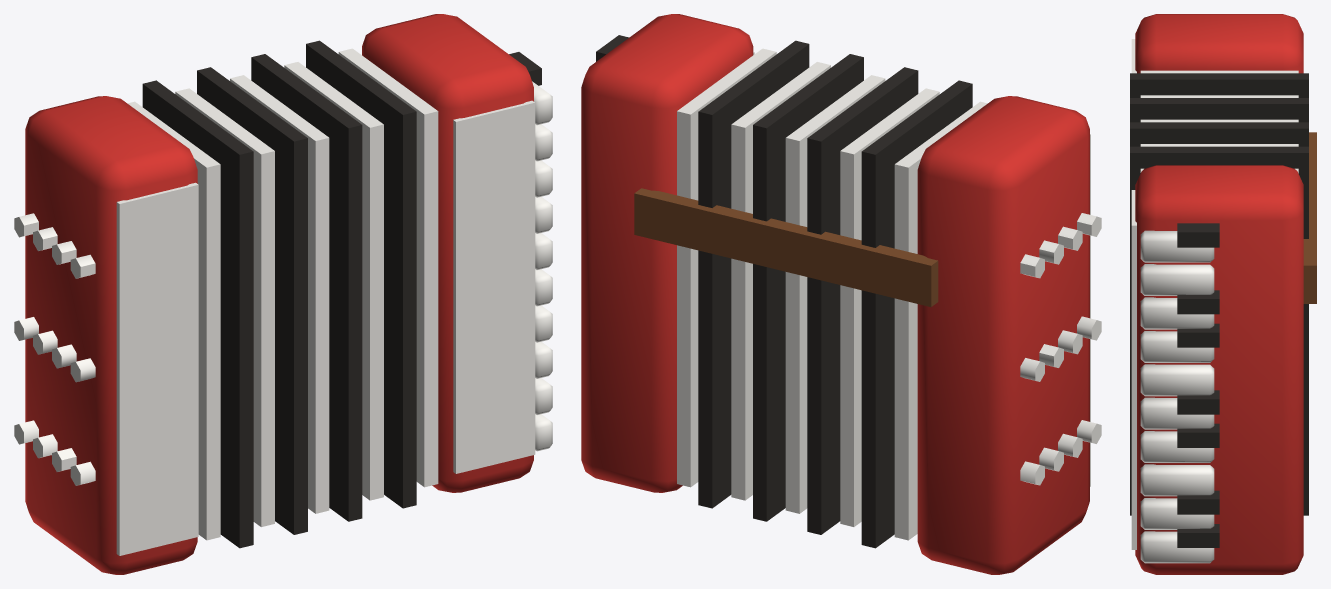
Rendered from acordeao.glb.
3 views of the same model, side by side, from view 1: azimuth 30°, elevation 25°; view 2: azimuth 150°, elevation 25°; view 3: azimuth 270°, elevation 25° (orthographic). The views are drawn at different scales.
Parts seen in each view (by area): view 1: Acordeao; view 2: Acordeao; view 3: Acordeao.
Part boxes in pixels (left/top/right/bottom): Acordeao: left=14, top=14, right=552, bottom=574; Acordeao: left=581, top=14, right=1101, bottom=574; Acordeao: left=1130, top=14, right=1316, bottom=574.
Bounding box in the file's own units: 0.477 × 0.4 × 0.1775.
